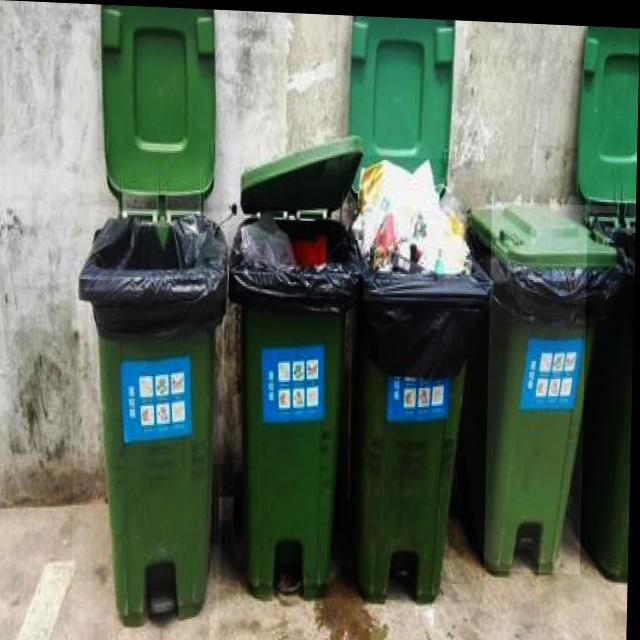garbage_bin: (73, 205, 229, 627), (461, 195, 620, 570), (582, 206, 636, 575)
overflow: (346, 151, 494, 599), (224, 202, 361, 596)
